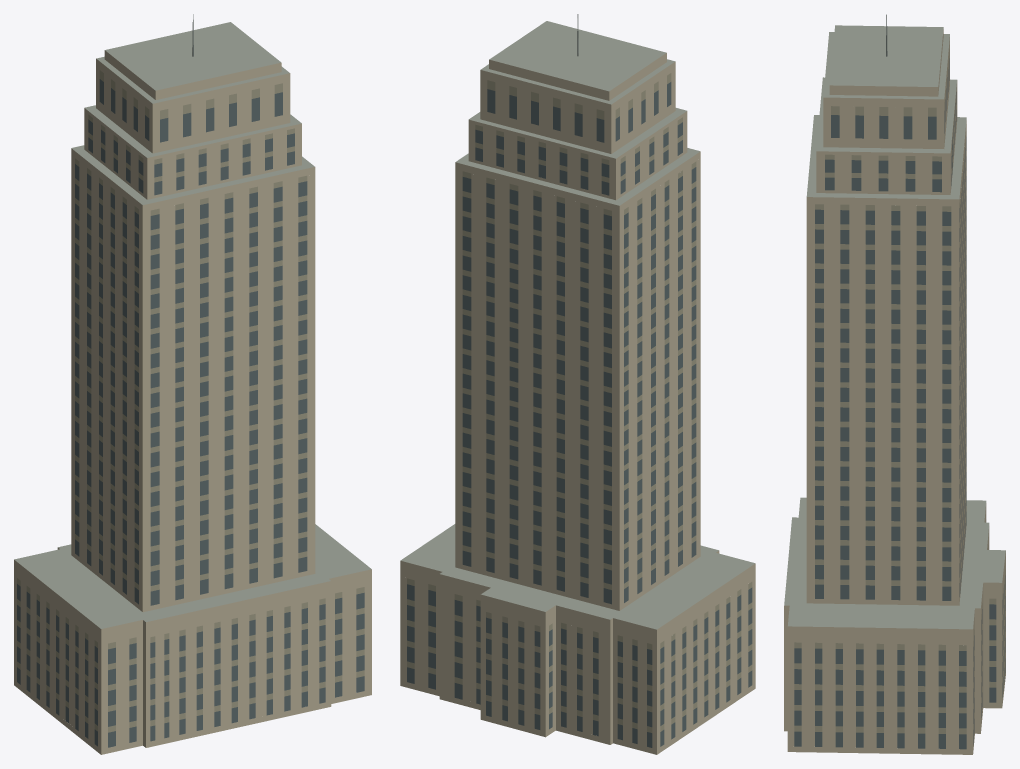
File: kansas-city-city-hall-near.glb
3 views of the same model, side by side, from view 1: azimuth 30°, elevation 25°; view 2: azimuth 150°, elevation 25°; view 3: azimuth 270°, elevation 25° (orthographic).
Parts seen in each view (by area): view 1: kansas-city-city-hall-0-stone, kansas-city-city-hall-0-glass, kansas-city-city-hall-0-roof, kansas-city-city-hall-0-bronze; view 2: kansas-city-city-hall-0-stone, kansas-city-city-hall-0-glass, kansas-city-city-hall-0-roof, kansas-city-city-hall-0-bronze; view 3: kansas-city-city-hall-0-stone, kansas-city-city-hall-0-glass, kansas-city-city-hall-0-roof, kansas-city-city-hall-0-bronze.
Part boxes in pixels (<box>): kansas-city-city-hall-0-stone: <box>14,50,371,754</box>; kansas-city-city-hall-0-glass: <box>17,79,364,747</box>; kansas-city-city-hall-0-roof: <box>14,22,371,628</box>; kansas-city-city-hall-0-bronze: <box>17,70,364,732</box>; kansas-city-city-hall-0-stone: <box>400,53,755,754</box>; kansas-city-city-hall-0-glass: <box>407,82,752,747</box>; kansas-city-city-hall-0-roof: <box>401,21,754,629</box>; kansas-city-city-hall-0-bronze: <box>407,73,752,732</box>; kansas-city-city-hall-0-stone: <box>784,29,1005,754</box>; kansas-city-city-hall-0-glass: <box>794,58,1005,749</box>; kansas-city-city-hall-0-roof: <box>784,25,1005,629</box>; kansas-city-city-hall-0-bronze: <box>794,49,1005,734</box>.
Size of the model in its own units: 60.3 by 144 by 42.87.
